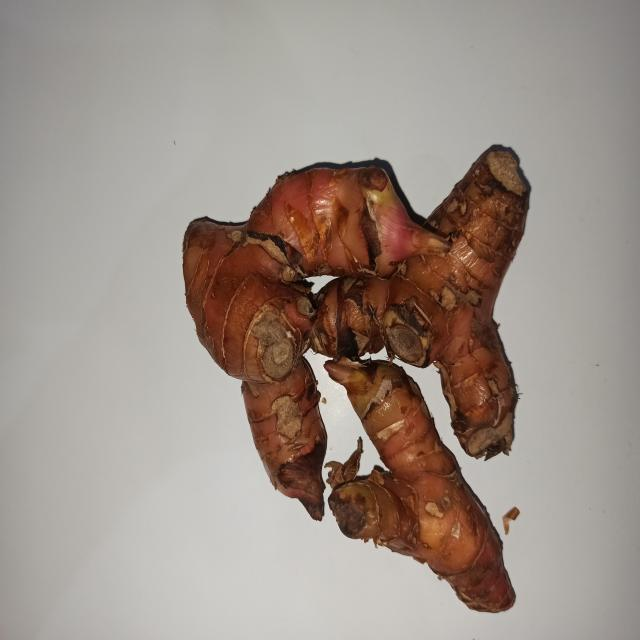ginger: (196, 146, 524, 608)
